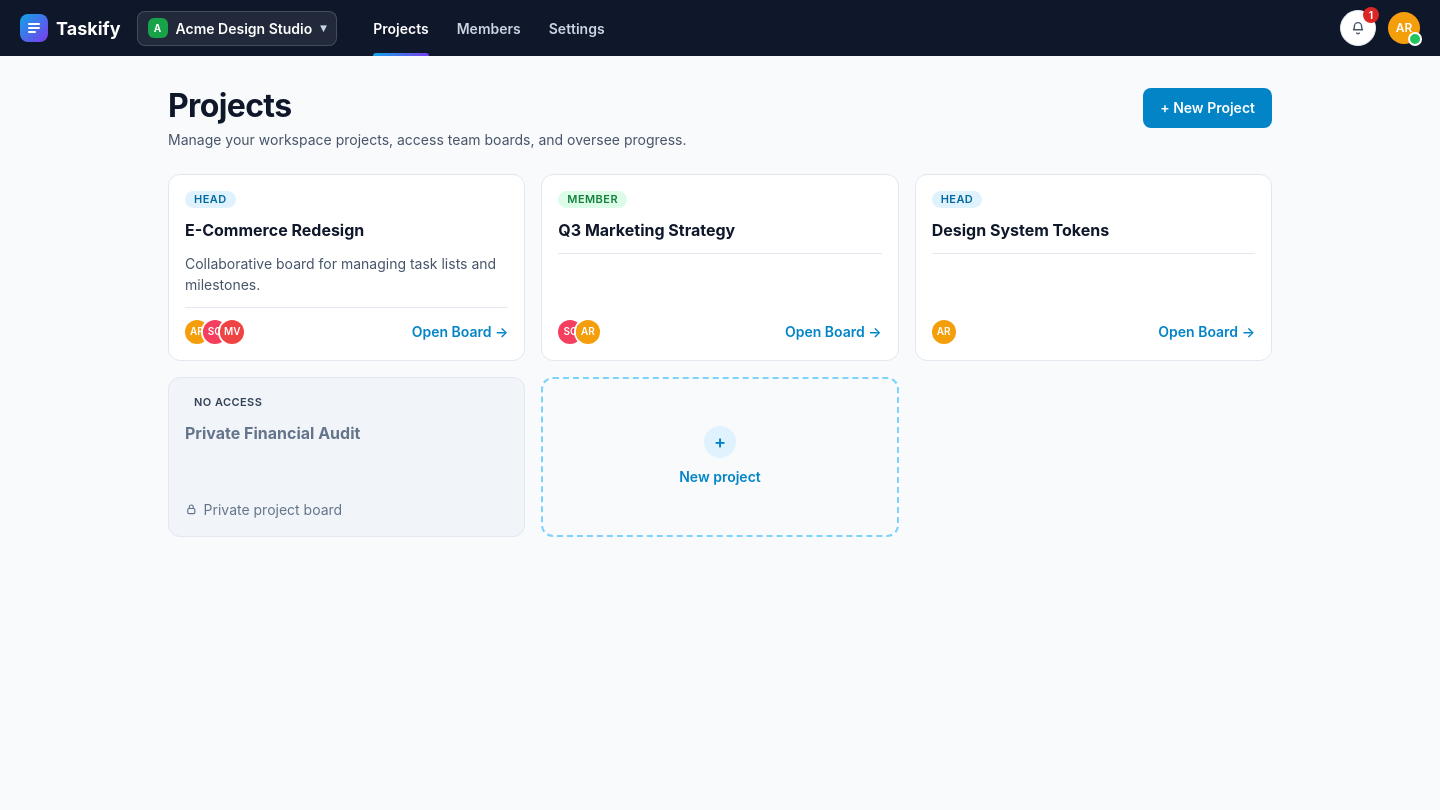
it: ProjectsPage › creates a project via the modal and navigates into it
The width and height of the screenshot is (1440, 810).
Click the button "+ New Project" at (1208, 108), box [1143, 88, 1272, 128]
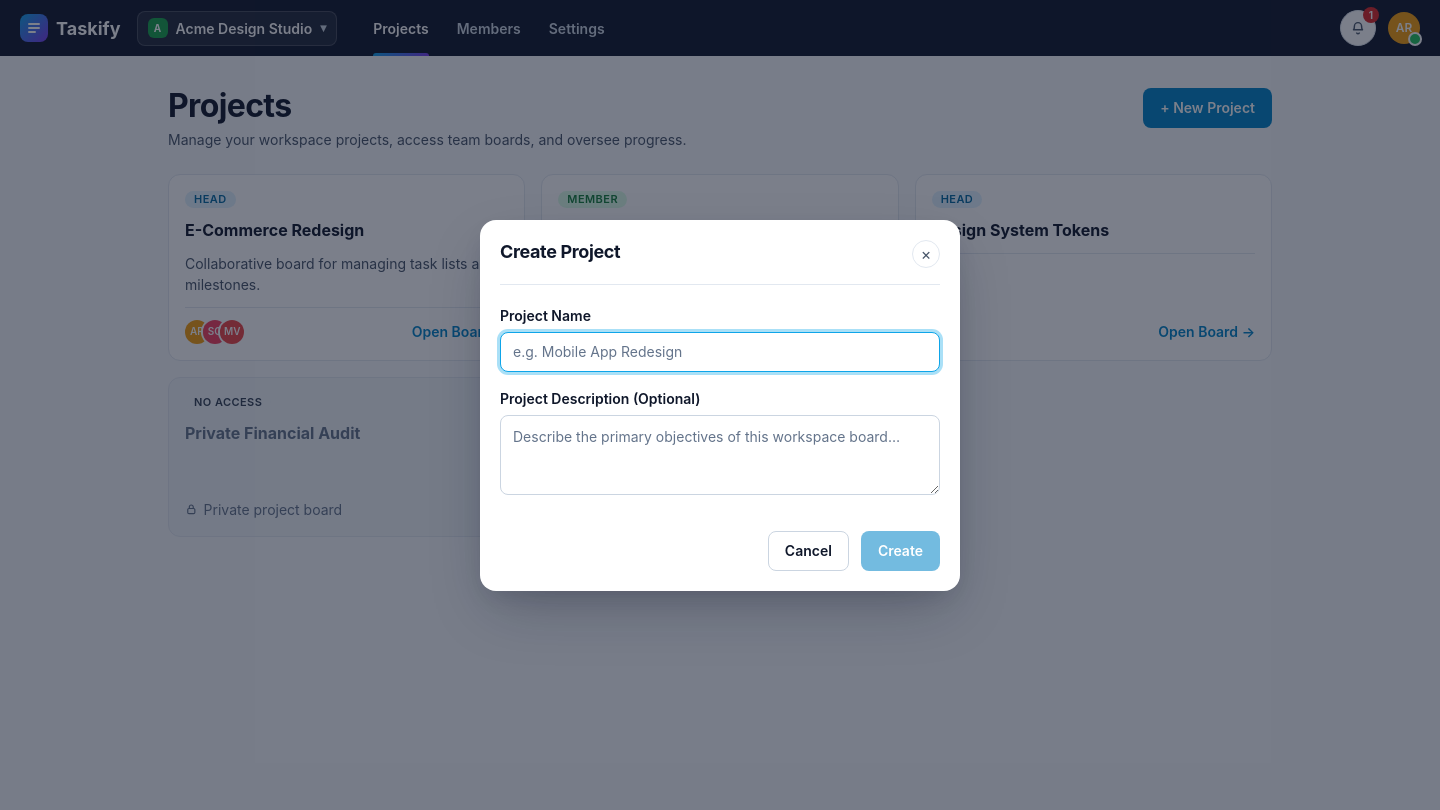
Type "Growth Experiments" into the field labelled "Project Name" at (720, 352), box [513, 334, 927, 369]
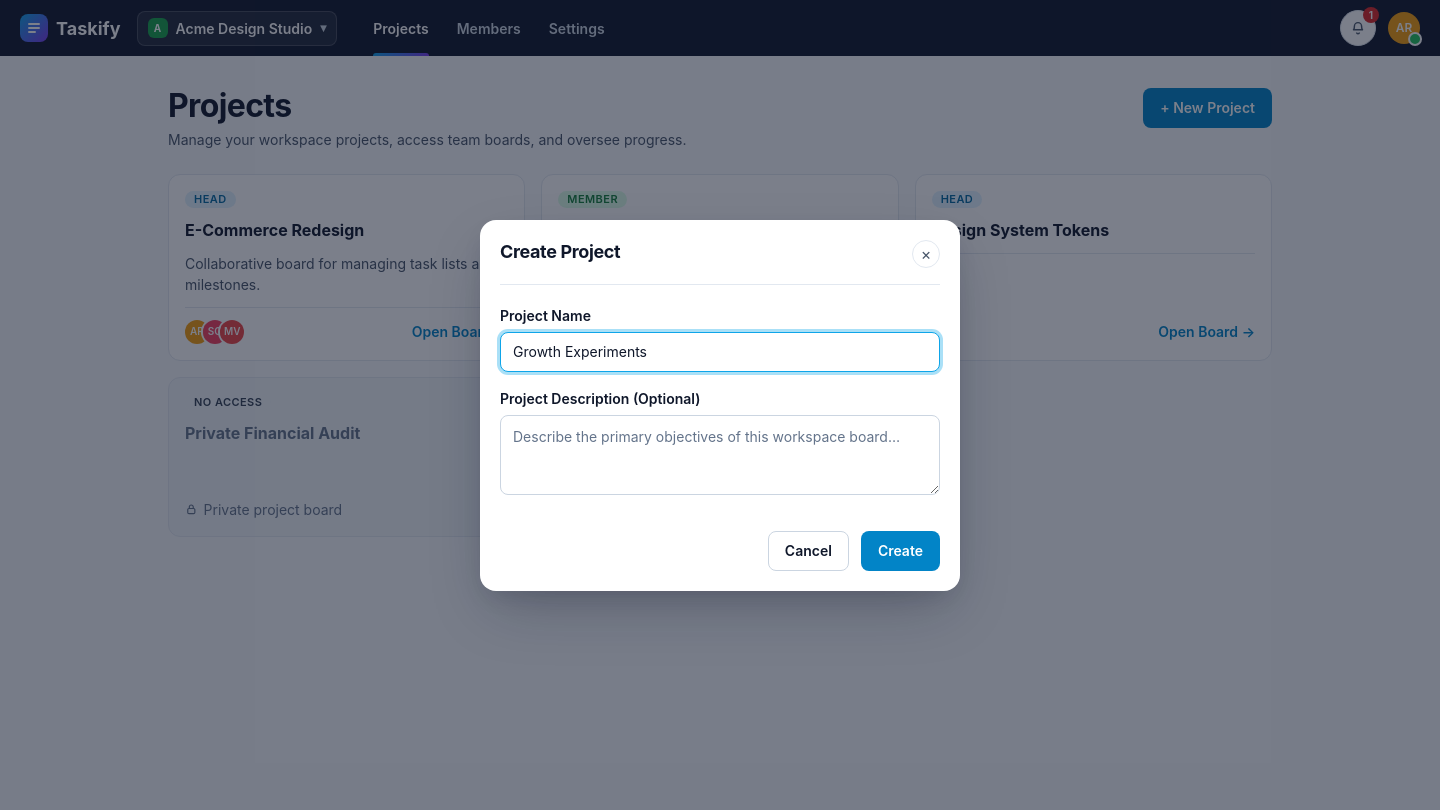
Click the button "Create" at (900, 550), box [861, 530, 940, 570]
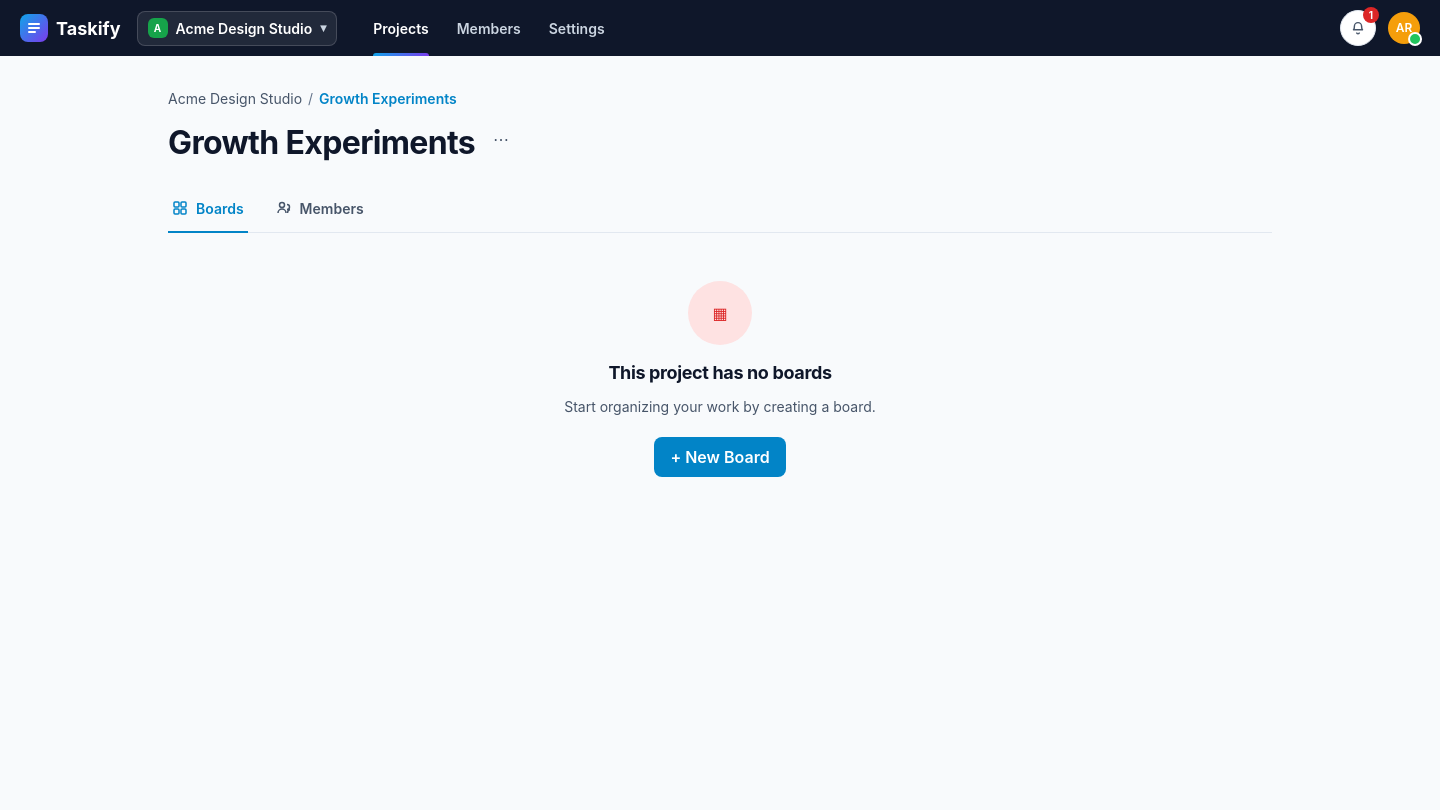
Now the heading "Growth Experiments" is shown, box [168, 125, 475, 162]
